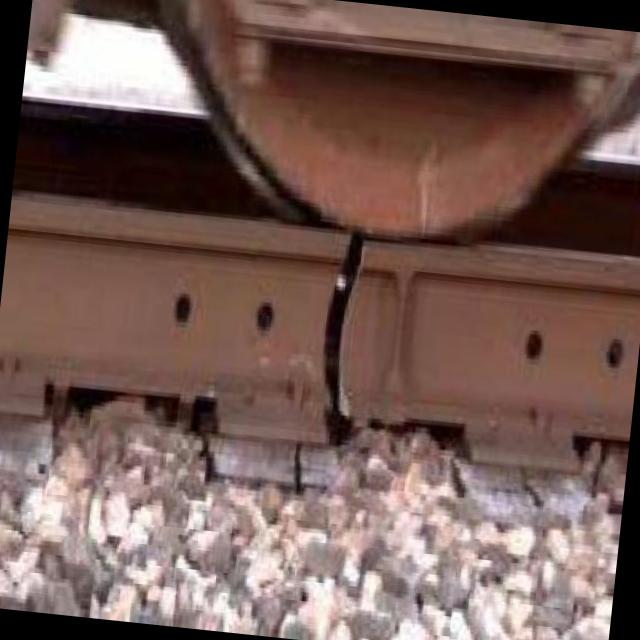defective: (151, 130, 613, 558)
